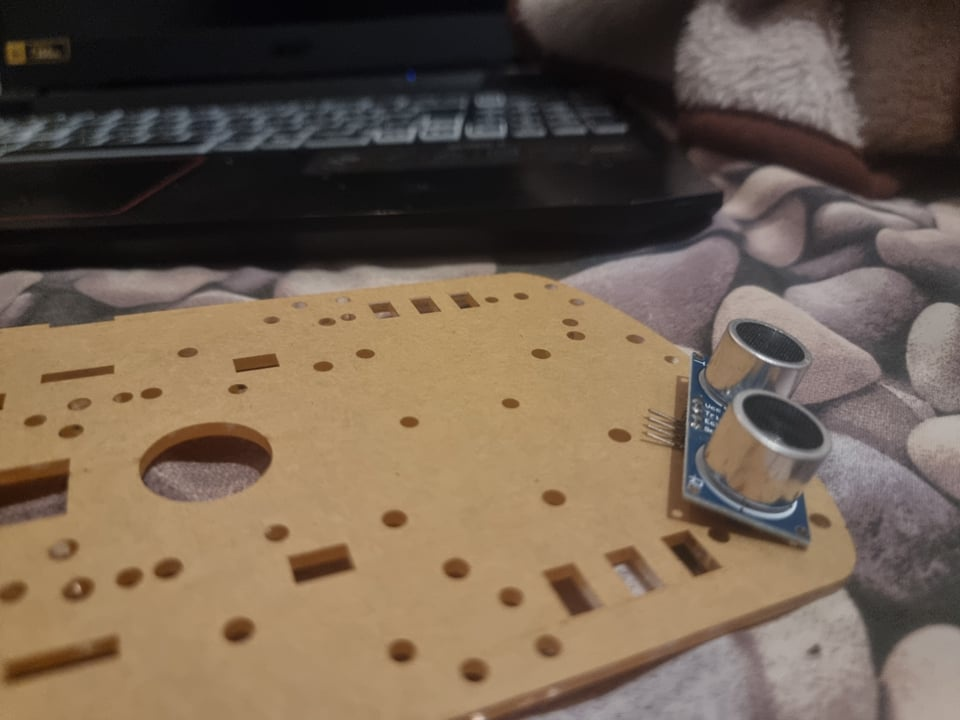SENSOR: (686, 315, 831, 546)
